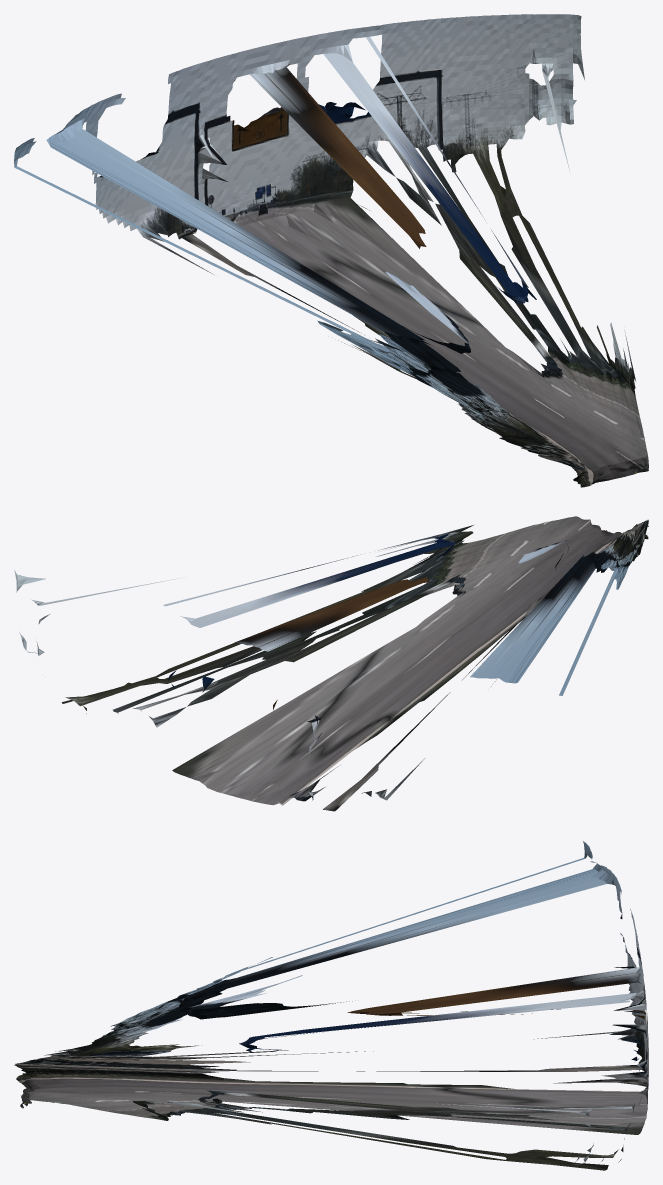
The picture shows the model from 3 angles, top to bottom: view 1: azimuth 30°, elevation 25°; view 2: azimuth 150°, elevation 25°; view 3: azimuth 270°, elevation 25°; orthographic projection. The views are drawn at different scales.
Parts seen in each view (by area): view 1: defaultobject; view 2: defaultobject; view 3: defaultobject.
Boxes of the visible parts, box(x1,y1,x2,y2) form: defaultobject: box(14, 14, 648, 487); defaultobject: box(14, 516, 648, 811); defaultobject: box(14, 841, 648, 1170).
Bounding box in the file's own units: 39.59 × 12.42 × 44.83.
Materials: 1 (1 with a texture image).
